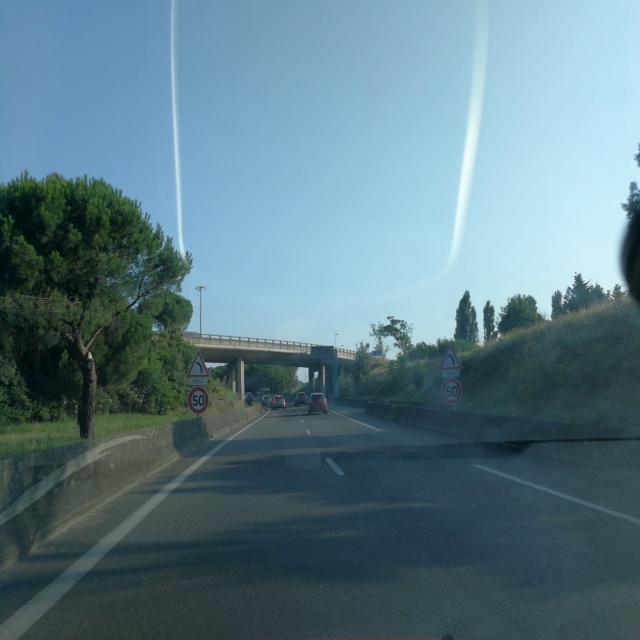car: (307, 392, 329, 416), (260, 393, 274, 409), (272, 394, 286, 410), (294, 391, 308, 407), (243, 391, 255, 407)
